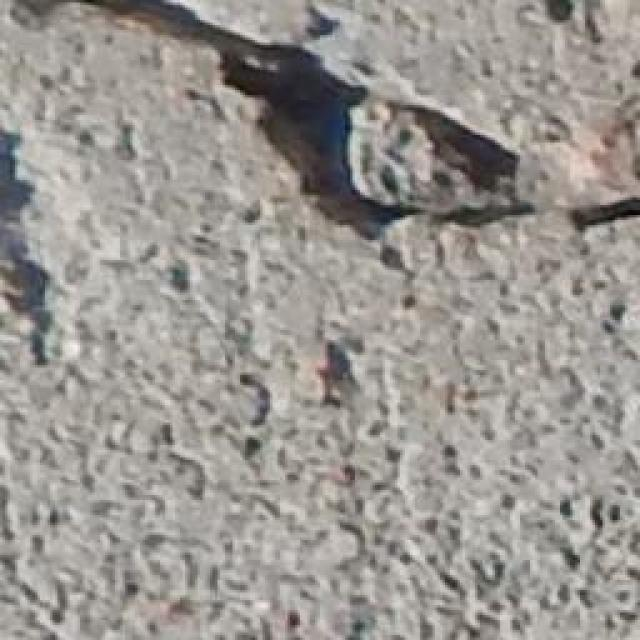concrete-crack: (4, 0, 640, 255), (1, 120, 60, 382)
